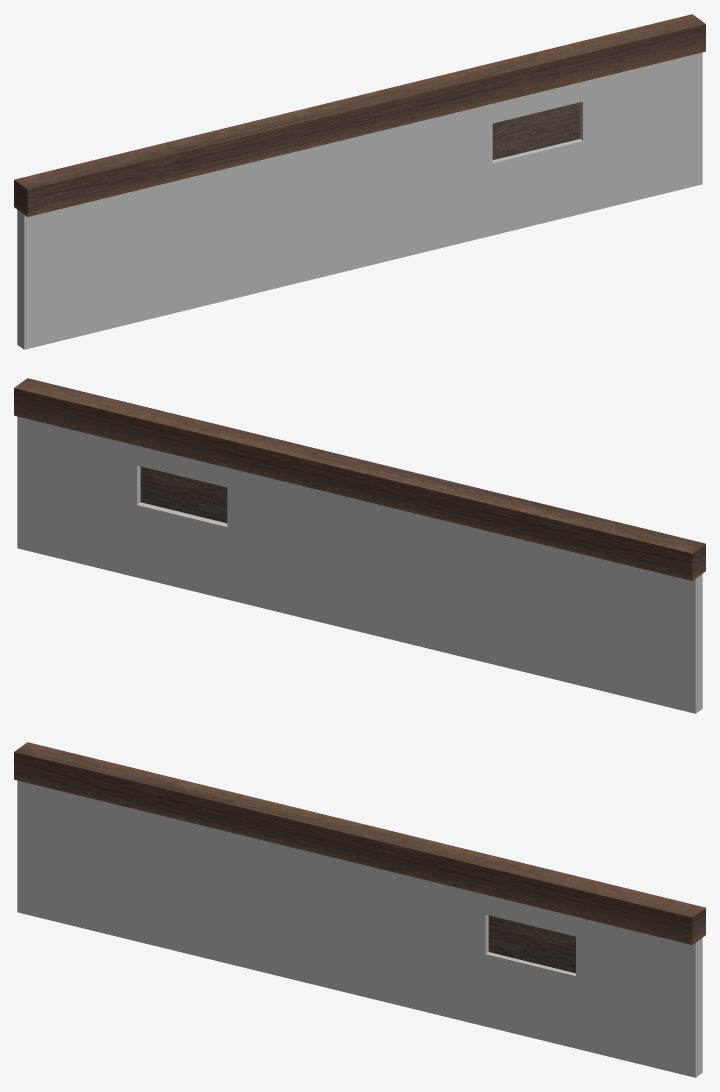
File: jov_lowwall_2t02.fbx
The picture shows the model from 3 angles, top to bottom: view 1: azimuth 30°, elevation 25°; view 2: azimuth 150°, elevation 25°; view 3: azimuth 330°, elevation 25°; orthographic projection.
Parts seen in each view (by area): view 1: jov_lowwall_2t02; view 2: jov_lowwall_2t02; view 3: jov_lowwall_2t02.
Part boxes in pixels (x1,y1,x2,y2): jov_lowwall_2t02: (14,14,705,349); jov_lowwall_2t02: (14,378,705,713); jov_lowwall_2t02: (14,742,705,1077).
Size of the model in its own units: 440 by 101 by 15.26.
